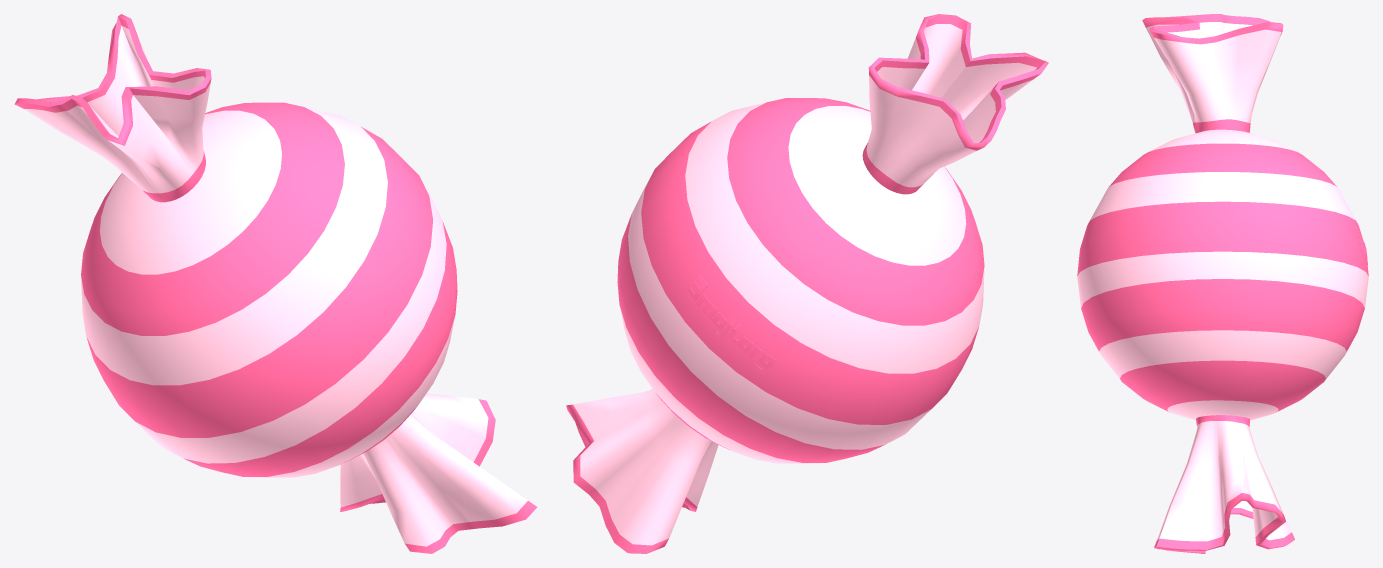
Rendered from candy.gltf.
3 views of the same model, side by side, from view 1: azimuth 30°, elevation 25°; view 2: azimuth 150°, elevation 25°; view 3: azimuth 270°, elevation 25° (orthographic). The views are drawn at different scales.
Parts seen in each view (by area): view 1: Sphere.498; view 2: Sphere.498; view 3: Sphere.498.
Boxes of the visible parts, x1,y1,x2,y2 form: Sphere.498: (14,14,537,553); Sphere.498: (566,14,1048,553); Sphere.498: (1077,14,1368,553).
Size of the model in its own units: 2 by 2.35 by 1.44.
Materials: 1 (1 with a texture image).
